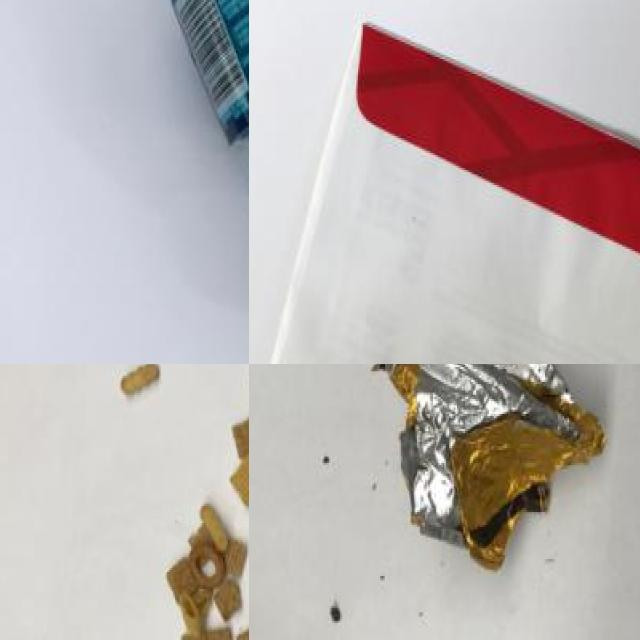compost: (97, 364, 249, 640)
paper: (279, 37, 640, 364)
plastic: (137, 0, 249, 364)
trash: (361, 364, 621, 584)
